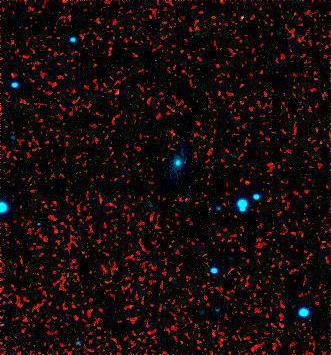star: (104, 80, 134, 110)
